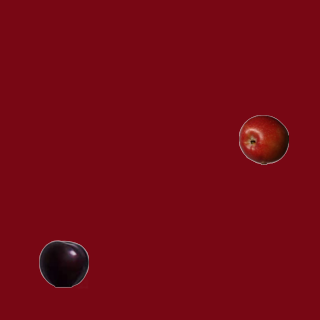Apple Braeburn: (238, 114, 288, 164)
Cherry Wax Black: (38, 238, 88, 288)
